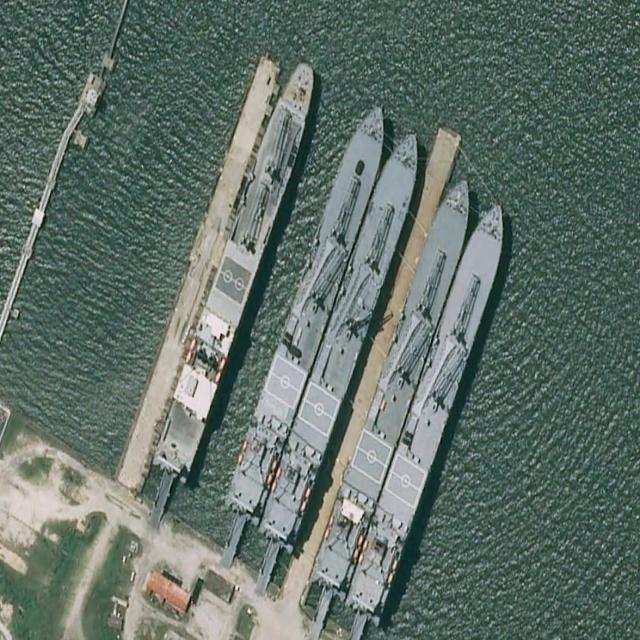Cargo: (253, 115, 433, 562), (218, 96, 399, 532), (343, 188, 518, 629), (149, 50, 325, 488), (308, 168, 483, 604)
